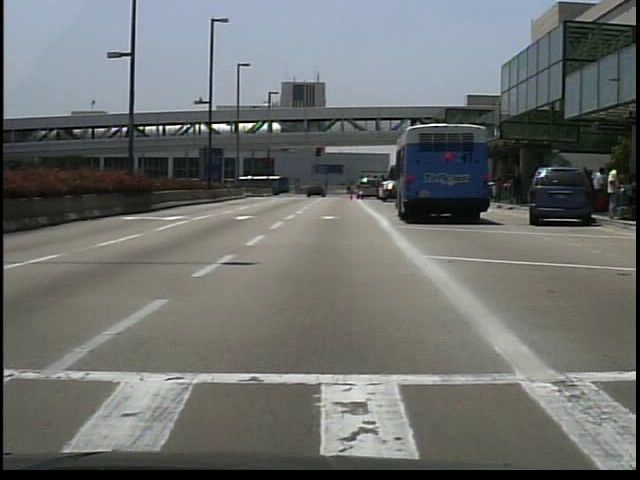person: (606, 162, 626, 220), (515, 169, 527, 205), (592, 166, 608, 190), (346, 181, 357, 197), (320, 183, 329, 199)
